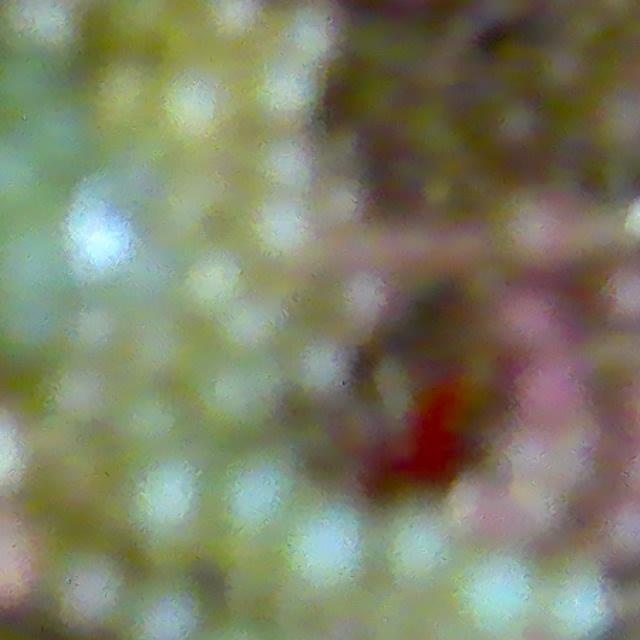SeaGrape: (449, 549, 543, 640), (280, 506, 360, 604), (210, 446, 283, 549), (194, 354, 280, 441), (125, 452, 196, 547), (57, 549, 124, 639), (516, 362, 592, 441), (382, 508, 456, 588), (244, 194, 319, 269), (0, 223, 70, 302), (123, 576, 205, 640), (4, 0, 85, 64), (113, 384, 184, 452), (492, 292, 561, 356), (220, 294, 286, 358), (547, 573, 610, 640), (133, 316, 195, 380), (183, 252, 245, 314), (52, 364, 113, 426), (592, 494, 640, 567), (254, 137, 313, 196), (70, 303, 127, 362)
